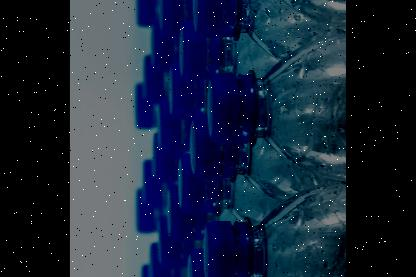Plastic Bottle: (206, 28, 346, 177), (200, 174, 346, 277), (210, 0, 346, 24)
